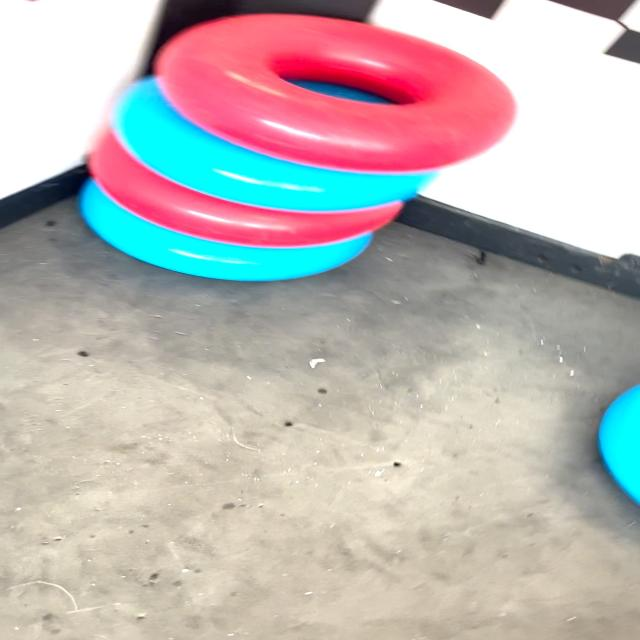Blue-Ring: (113, 79, 438, 211), (80, 180, 373, 281)
Red-Ring: (156, 14, 516, 172), (89, 130, 402, 248)
